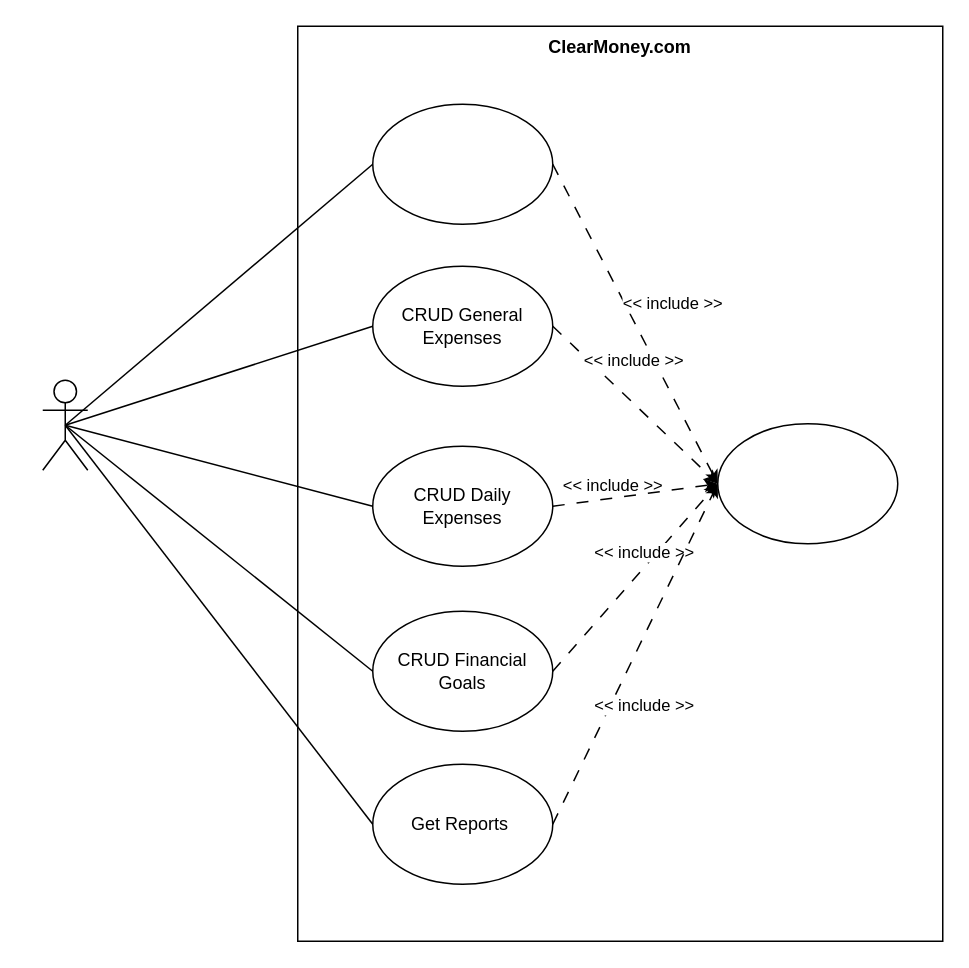
Some shapes in this 969 by 968 pixel diagram are drawn without their labels. The shapes that lost their labels are listed below. From the top down, each one's centre as x and y in pixels, then its label:
At (x=462, y=163): "CRUD Revenues".
At (x=64, y=424): "Utilisateur".
At (x=807, y=483): "Authentication".
